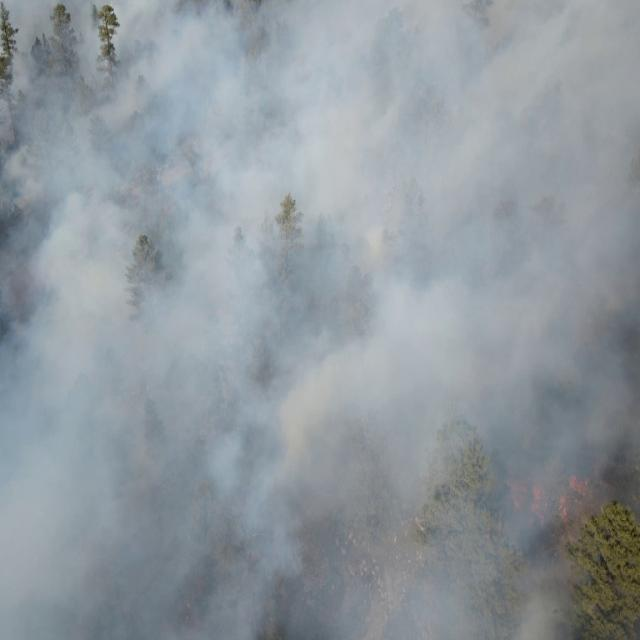fire: (507, 464, 602, 532)
smoke: (2, 0, 604, 640), (606, 0, 640, 526)
